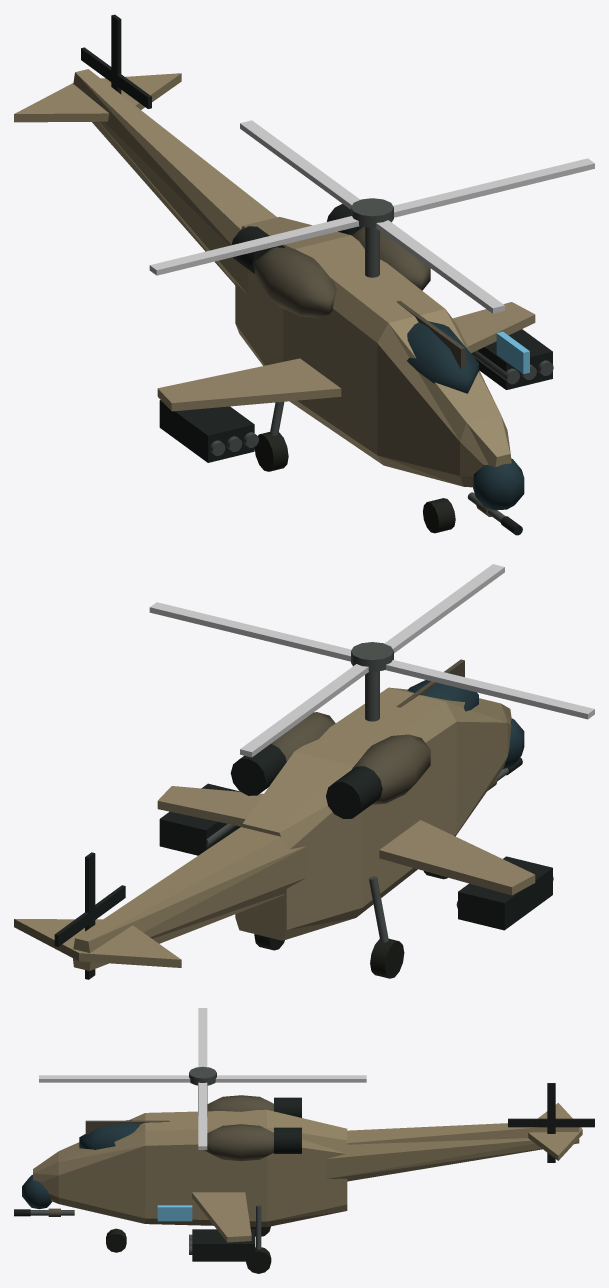
File: gunship-lod.glb
3 views of the same model, one above another, from view 1: azimuth 30°, elevation 25°; view 2: azimuth 150°, elevation 25°; view 3: azimuth 270°, elevation 25° (orthographic). The views are drawn at different scales.
Visible parts, largest first — view 1: equipment (×4), marking; view 2: equipment (×4); view 3: equipment (×5), marking.
Boxes of the visible parts, x1=… form: equipment (×4): x1=14, y1=14, x2=594, y2=533; marking: x1=496, y1=331, x2=529, y2=374; equipment (×4): x1=14, y1=564, x2=594, y2=979; equipment (×5): x1=14, y1=1008, x2=594, y2=1273; marking: x1=157, y1=1205, x2=192, y2=1221.
Size of the model in its own units: 4.7 by 2.86 by 8.34.
